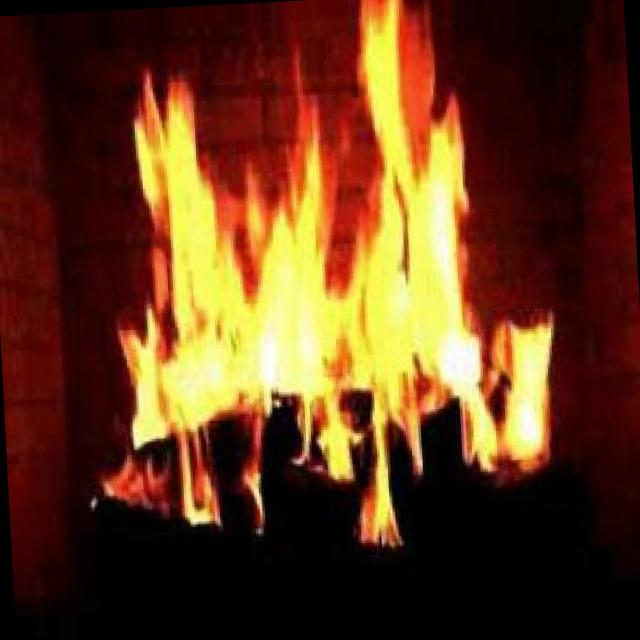Fire: (63, 0, 570, 578)
